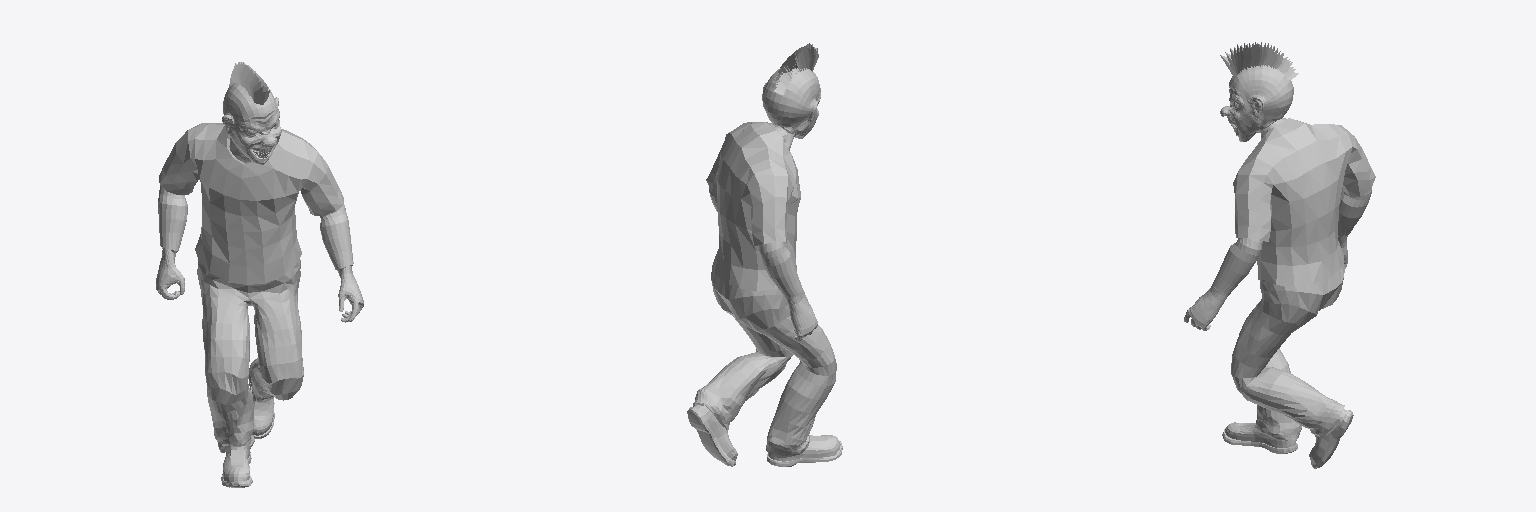
File: Walk (37).obj
3 renders of one model, left to right at view 1: azimuth 30°, elevation 25°; view 2: azimuth 150°, elevation 25°; view 3: azimuth 270°, elevation 25°, orthographic.
Visible parts, largest first — view 1: shirt, pants, head, forearm_band_01, forearm_band_002, boots, hand_right, Hair, hand_left, boots001; view 2: pants, shirt, head, boots001, forearm_band_01, boots, Hair, hand_right; view 3: shirt, pants, head, forearm_band_002, Hair, boots, hand_left, boots001, forearm_band_01.
Part boxes in pixels (bbox=[...]): shirt: bbox=[159, 123, 343, 284]; pants: bbox=[197, 258, 303, 452]; head: bbox=[222, 83, 281, 164]; forearm_band_01: bbox=[158, 186, 187, 253]; forearm_band_002: bbox=[320, 205, 353, 270]; boots: bbox=[221, 450, 252, 487]; hand_right: bbox=[156, 248, 184, 299]; Hair: bbox=[229, 62, 269, 104]; hand_left: bbox=[338, 266, 363, 322]; boots001: bbox=[249, 359, 274, 438]; pants: bbox=[693, 269, 836, 457]; shirt: bbox=[706, 122, 800, 291]; head: bbox=[762, 68, 820, 138]; boots001: bbox=[687, 404, 737, 466]; forearm_band_01: bbox=[759, 242, 802, 297]; boots: bbox=[767, 435, 842, 466]; Hair: bbox=[770, 43, 818, 94]; hand_right: bbox=[786, 290, 817, 340]; shirt: bbox=[1233, 118, 1375, 287]; pants: bbox=[1231, 264, 1344, 440]; head: bbox=[1220, 65, 1293, 141]; forearm_band_002: bbox=[1213, 238, 1262, 294]; Hair: bbox=[1220, 42, 1298, 79]; boots: bbox=[1222, 422, 1297, 453]; hand_left: bbox=[1184, 284, 1228, 330]; boots001: bbox=[1309, 409, 1353, 468]; forearm_band_01: bbox=[1338, 189, 1371, 236].
Size of the model in its own units: 67.09 by 180 by 76.42.